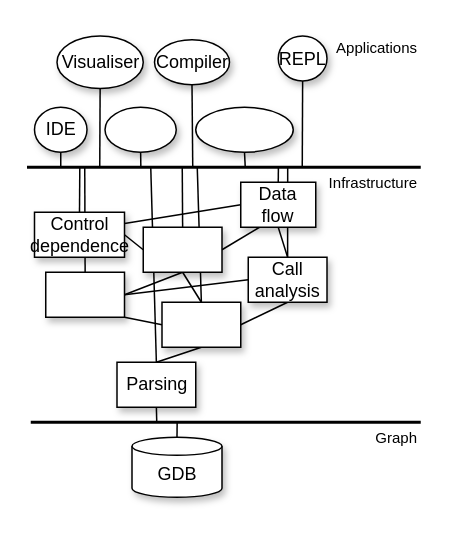
Some shapes in this 456 by 534 pixel diagram are drawn without their labels. The centre of each missing label's shape, as x and y in pixels:
AST: point 202,326
Control flow: point 183,251
Metrics: point 141,131
Symbol table: point 86,296
Verification: point 245,131
